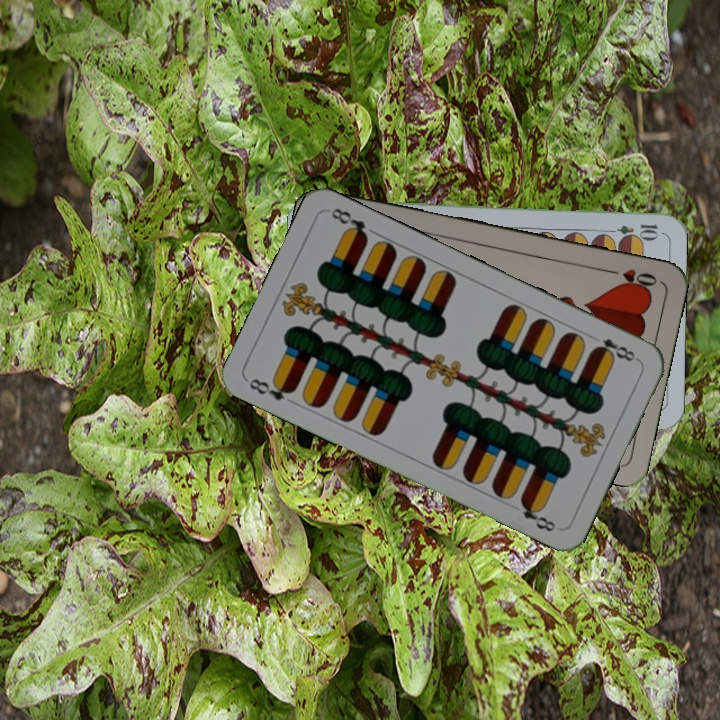E10: (602, 220, 661, 238)
E8: (586, 331, 642, 365), (245, 374, 298, 404)
HO: (603, 265, 660, 293)
